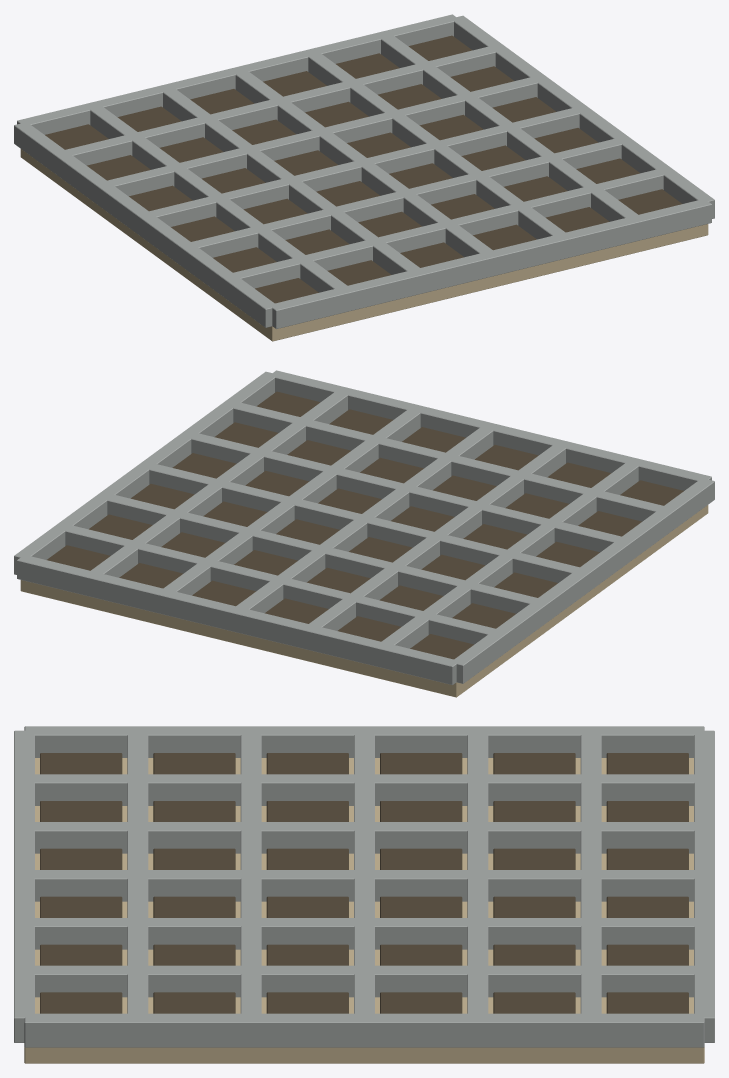
File: b13_permeable_concrete_grid_paving.glb
3 views of the same model, one above another, from view 1: azimuth 30°, elevation 25°; view 2: azimuth 150°, elevation 25°; view 3: azimuth 270°, elevation 25° (orthographic). The views are drawn at different scales.
Parts seen in each view (by area): view 1: b13_permeable_concrete_grid_paving; view 2: b13_permeable_concrete_grid_paving; view 3: b13_permeable_concrete_grid_paving.
Part boxes in pixels (x1,y1,x2,y2): b13_permeable_concrete_grid_paving: (14,14,714,341); b13_permeable_concrete_grid_paving: (14,370,714,697); b13_permeable_concrete_grid_paving: (14,726,714,1063).
Bounding box in the file's own units: 2.47 × 0.18 × 2.47.
